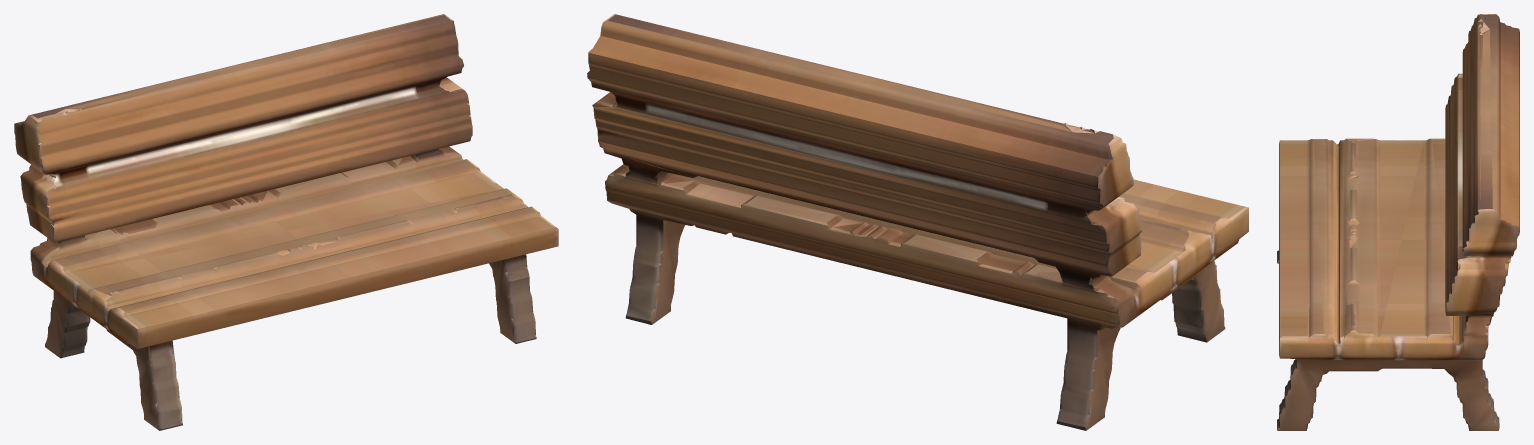
The model's file is town-bench.glb.
3 renders of one model, left to right at view 1: azimuth 30°, elevation 25°; view 2: azimuth 150°, elevation 25°; view 3: azimuth 270°, elevation 25°, orthographic. The views are drawn at different scales.
Visible parts, largest first — view 1: piece; view 2: piece; view 3: piece.
Part boxes in pixels (box(x1,y1,x2,y2)): piece: box(14, 14, 558, 430); piece: box(587, 14, 1248, 430); piece: box(1277, 14, 1519, 430).
Size of the model in its own units: 1.65 by 0.8977 by 0.8468.
1 material, 1 textured.
